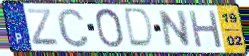C: (55, 6, 91, 49)
D: (123, 7, 155, 50)
H: (186, 8, 224, 49)
N: (158, 9, 193, 48)
O: (93, 7, 125, 49)
Z: (24, 8, 61, 47)
